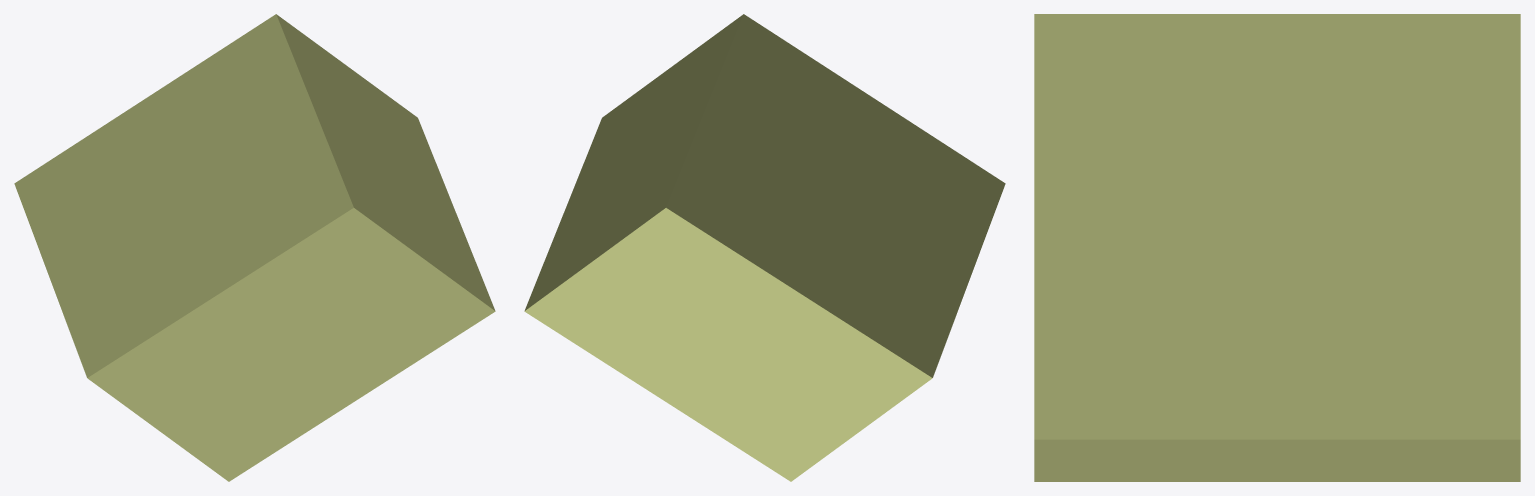
3 views of the same model, side by side, from view 1: azimuth 30°, elevation 25°; view 2: azimuth 150°, elevation 25°; view 3: azimuth 270°, elevation 25° (orthographic). The views are drawn at different scales.
Visible parts, largest first — view 1: 0_0_1_2_0_0_3_0_3_2_0; view 2: 0_0_1_2_0_0_3_0_3_2_0; view 3: 0_0_1_2_0_0_3_0_3_2_0.
Part boxes in pixels (box(x1,y1,x2,y2)): 0_0_1_2_0_0_3_0_3_2_0: box(14, 14, 495, 481); 0_0_1_2_0_0_3_0_3_2_0: box(524, 14, 1005, 481); 0_0_1_2_0_0_3_0_3_2_0: box(1034, 14, 1520, 481).
Size of the model in its own units: 12.45 by 11.14 by 9.
